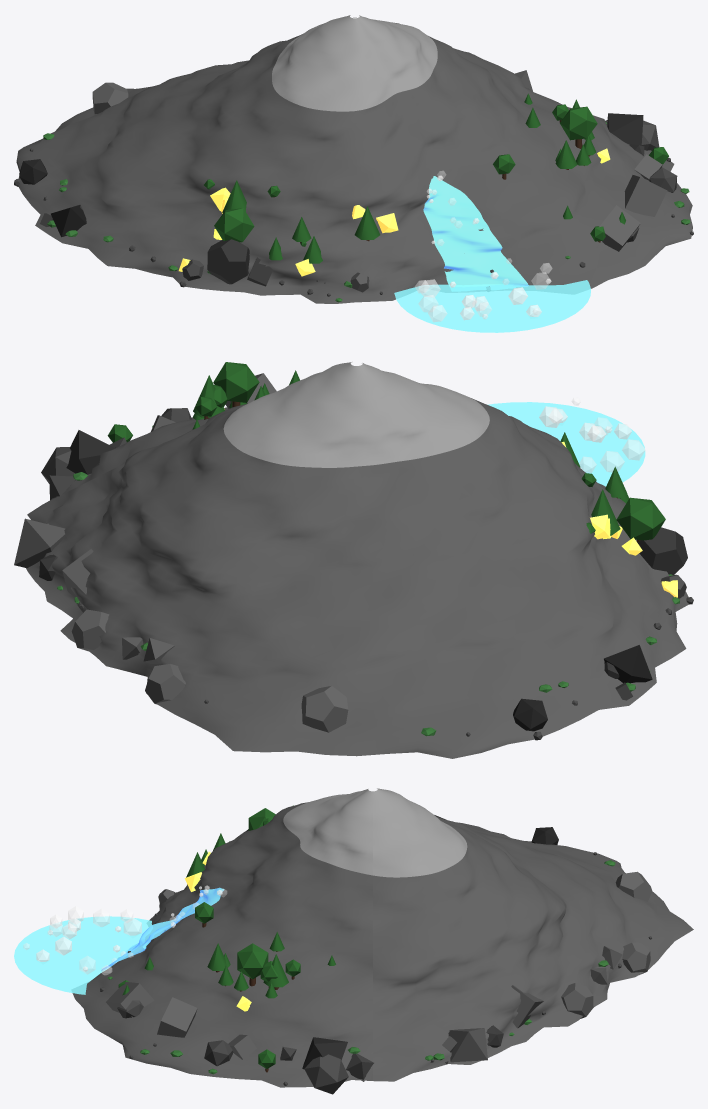
The model's file is montana_9.glb.
3 renders of one model, top to bottom at view 1: azimuth 30°, elevation 25°; view 2: azimuth 150°, elevation 25°; view 3: azimuth 270°, elevation 25°, orthographic. The views are drawn at different scales.
Parts seen in each view (by area): view 1: tierra, cima, poza_agua, rio, copa (×3), roca_11, roca_23, roca_2, roca_17, roca_15, roca_13, roca_24; view 2: tierra, cima, poza_agua, copa (×2), roca_15, roca_8, roca_11, roca_17, roca_25, roca_13, roca_19, roca_24 (+2 smaller); view 3: tierra, cima, poza_agua, rio, roca_6, roca_8, roca_23, roca_19, copa, roca_2, roca_17, roca_25 (+3 smaller).
Boxes of the visible parts, <box> form: tierra: <box>16,22,692,303</box>; cima: <box>272,15,437,111</box>; poza_agua: <box>394,280,590,332</box>; rio: <box>423,176,528,287</box>; copa (×3): <box>214,106,597,242</box>; roca_11: <box>207,239,249,284</box>; roca_23: <box>624,175,667,216</box>; roca_2: <box>599,205,640,251</box>; roca_17: <box>607,113,643,145</box>; roca_15: <box>92,82,128,114</box>; roca_13: <box>51,205,86,237</box>; roca_24: <box>19,159,47,184</box>; tierra: <box>26,398,689,758</box>; cima: <box>223,362,489,467</box>; poza_agua: <box>487,402,645,486</box>; copa (×2): <box>213,362,665,540</box>; roca_15: <box>301,685,348,732</box>; roca_8: <box>14,518,65,568</box>; roca_11: <box>636,527,687,574</box>; roca_17: <box>66,430,115,474</box>; roca_25: <box>145,664,185,704</box>; roca_13: <box>604,645,652,683</box>; roca_19: <box>71,609,109,651</box>; roca_24: <box>513,698,547,731</box>; tierra: <box>72,802,693,1087</box>; cima: <box>283,788,467,877</box>; poza_agua: <box>14,916,151,994</box>; rio: <box>101,887,224,971</box>; roca_6: <box>304,1054,348,1094</box>; roca_8: <box>448,1028,487,1062</box>; roca_23: <box>157,997,197,1037</box>; roca_19: <box>561,983,593,1018</box>; copa: <box>237,943,268,979</box>; roca_2: <box>106,982,154,1017</box>; roca_17: <box>302,1037,347,1069</box>; roca_25: <box>622,942,650,974</box>.
Size of the model in its own units: 32.14 by 10.58 by 35.99.
